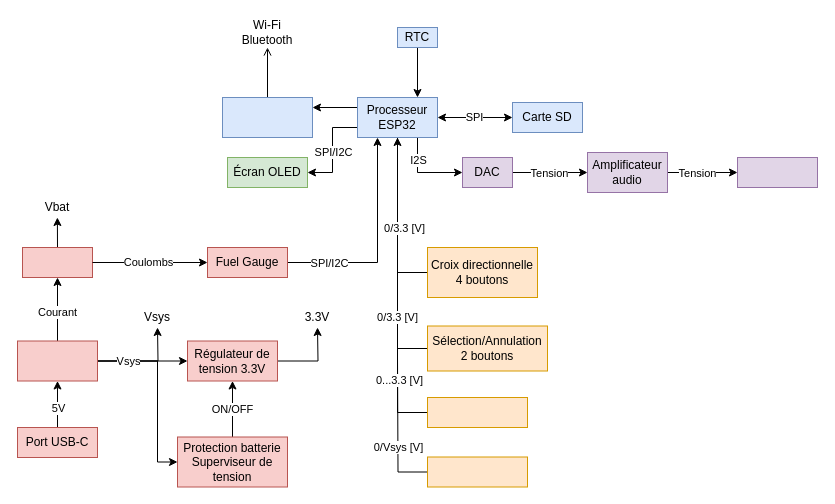
This 835x504 diagram has some shape labels left out. The shapes that lost their labels are listed below. From the top down, each one's box as (x1, y1, x2, y2) in pixels, then its label:
(222, 96, 312, 138): Antenne PCB ESP32
(736, 156, 818, 188): Jack 3.5 mm
(22, 246, 92, 278): Batterie
(16, 340, 98, 381): Battery Charger IC
(426, 396, 528, 428): Contrôle volume
(426, 456, 528, 487): Switch ON/OFF
